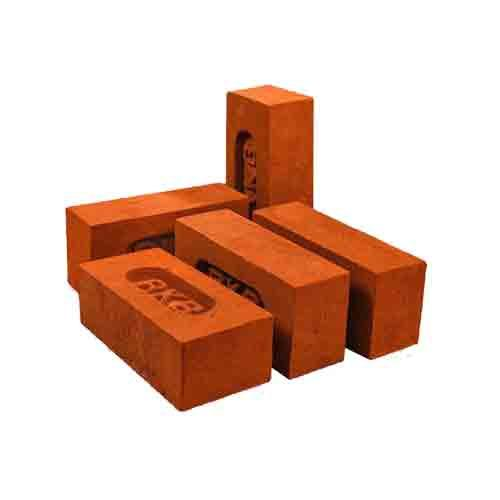brick: (180, 313, 271, 411), (289, 273, 349, 379), (264, 95, 315, 205), (369, 261, 426, 359)
